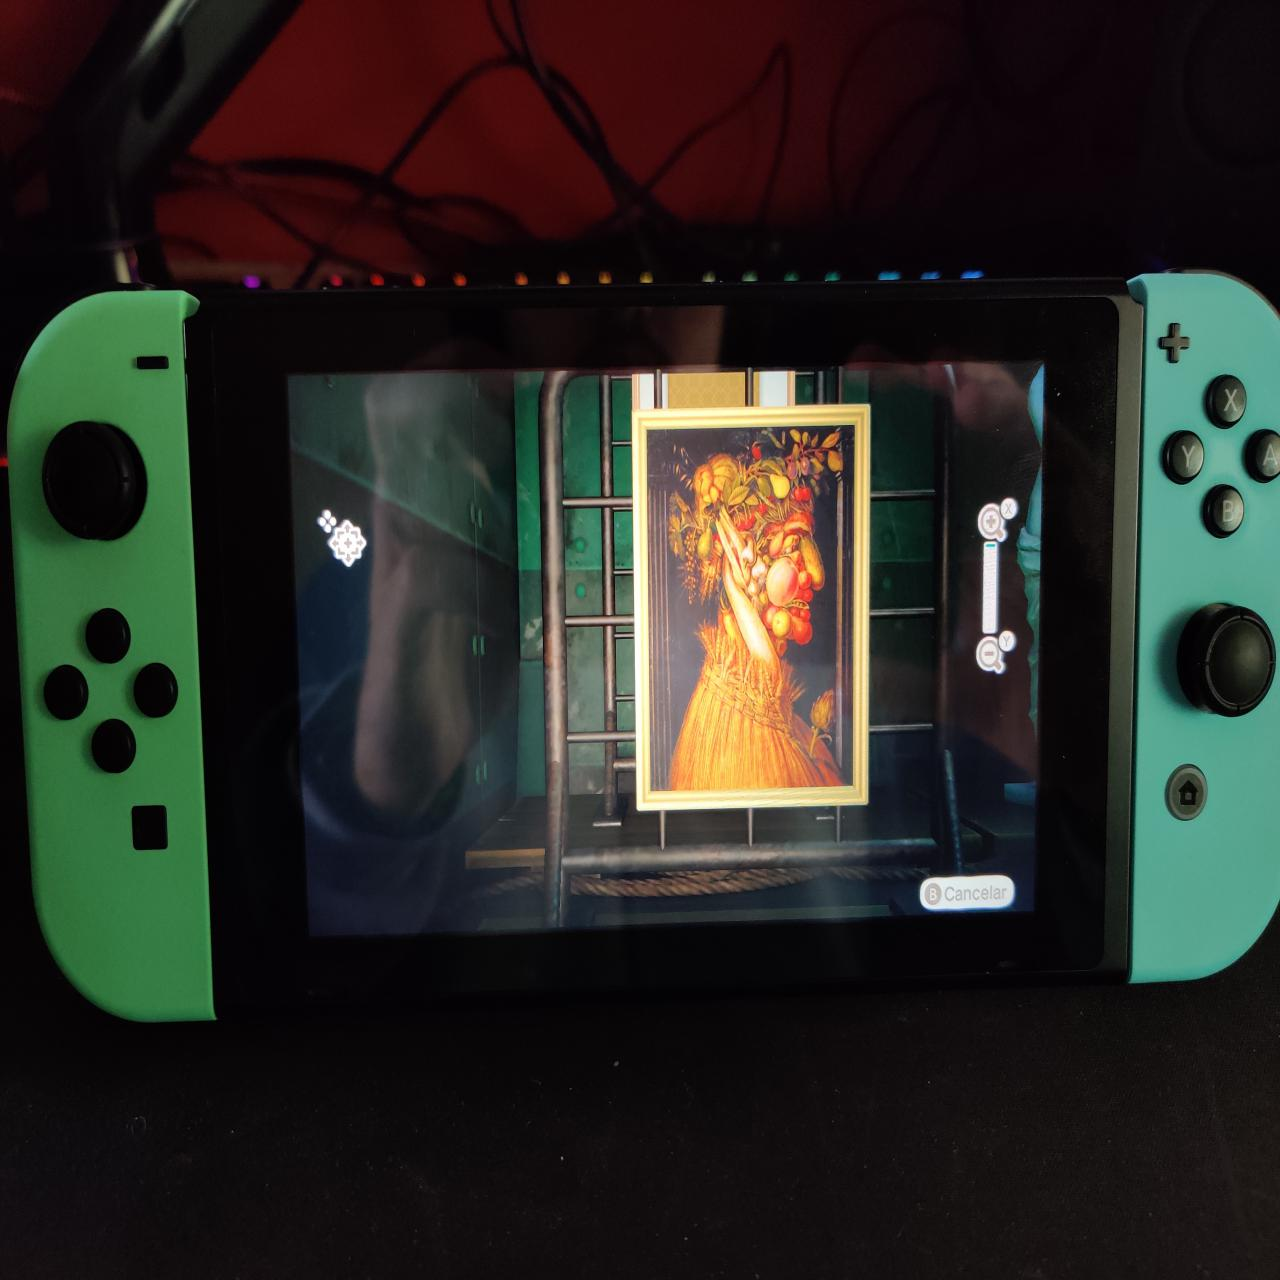Summer: (651, 431, 855, 783)
